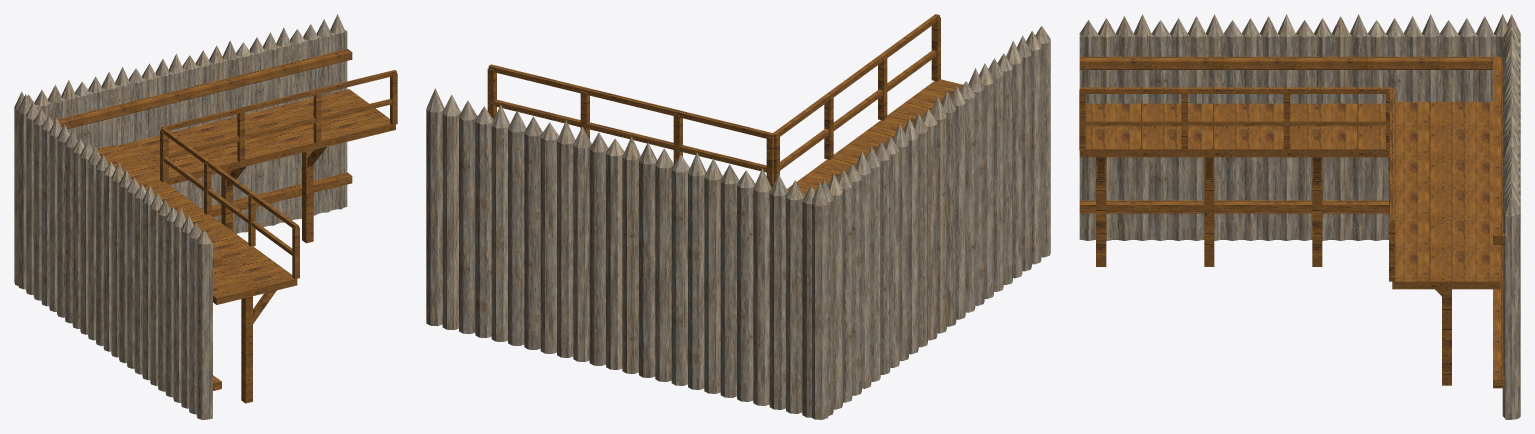
File: frontier-stockade-corner.gltf
The picture shows the model from 3 angles, left to right: view 1: azimuth 30°, elevation 25°; view 2: azimuth 150°, elevation 25°; view 3: azimuth 270°, elevation 25°; orthographic projection. The views are drawn at different scales.
Parts seen in each view (by area): view 1: stockade-L0-log, walkway-L1-wood, structure-L0-wood, guards-L1-wood; view 2: stockade-L0-log, guards-L1-wood, walkway-L1-wood; view 3: stockade-L0-log, walkway-L1-wood, structure-L0-wood, guards-L1-wood.
Part boxes in pixels (x1,y1,x2,y2): stockade-L0-log: (14, 14, 347, 419); walkway-L1-wood: (92, 89, 395, 304); structure-L0-wood: (52, 48, 352, 403); guards-L1-wood: (160, 70, 397, 279); stockade-L0-log: (426, 26, 1050, 419); guards-L1-wood: (487, 14, 940, 187); walkway-L1-wood: (787, 79, 963, 195); stockade-L0-log: (1079, 14, 1520, 419); walkway-L1-wood: (1079, 101, 1500, 289); structure-L0-wood: (1079, 56, 1504, 388); guards-L1-wood: (1079, 87, 1395, 281).
Bounding box in the file's own units: 6.13 × 3.42 × 6.13.
Materials: 2 (2 with a texture image).
